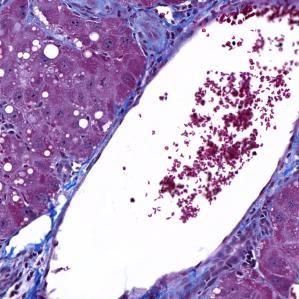fibrosis: (73, 3, 190, 49)
